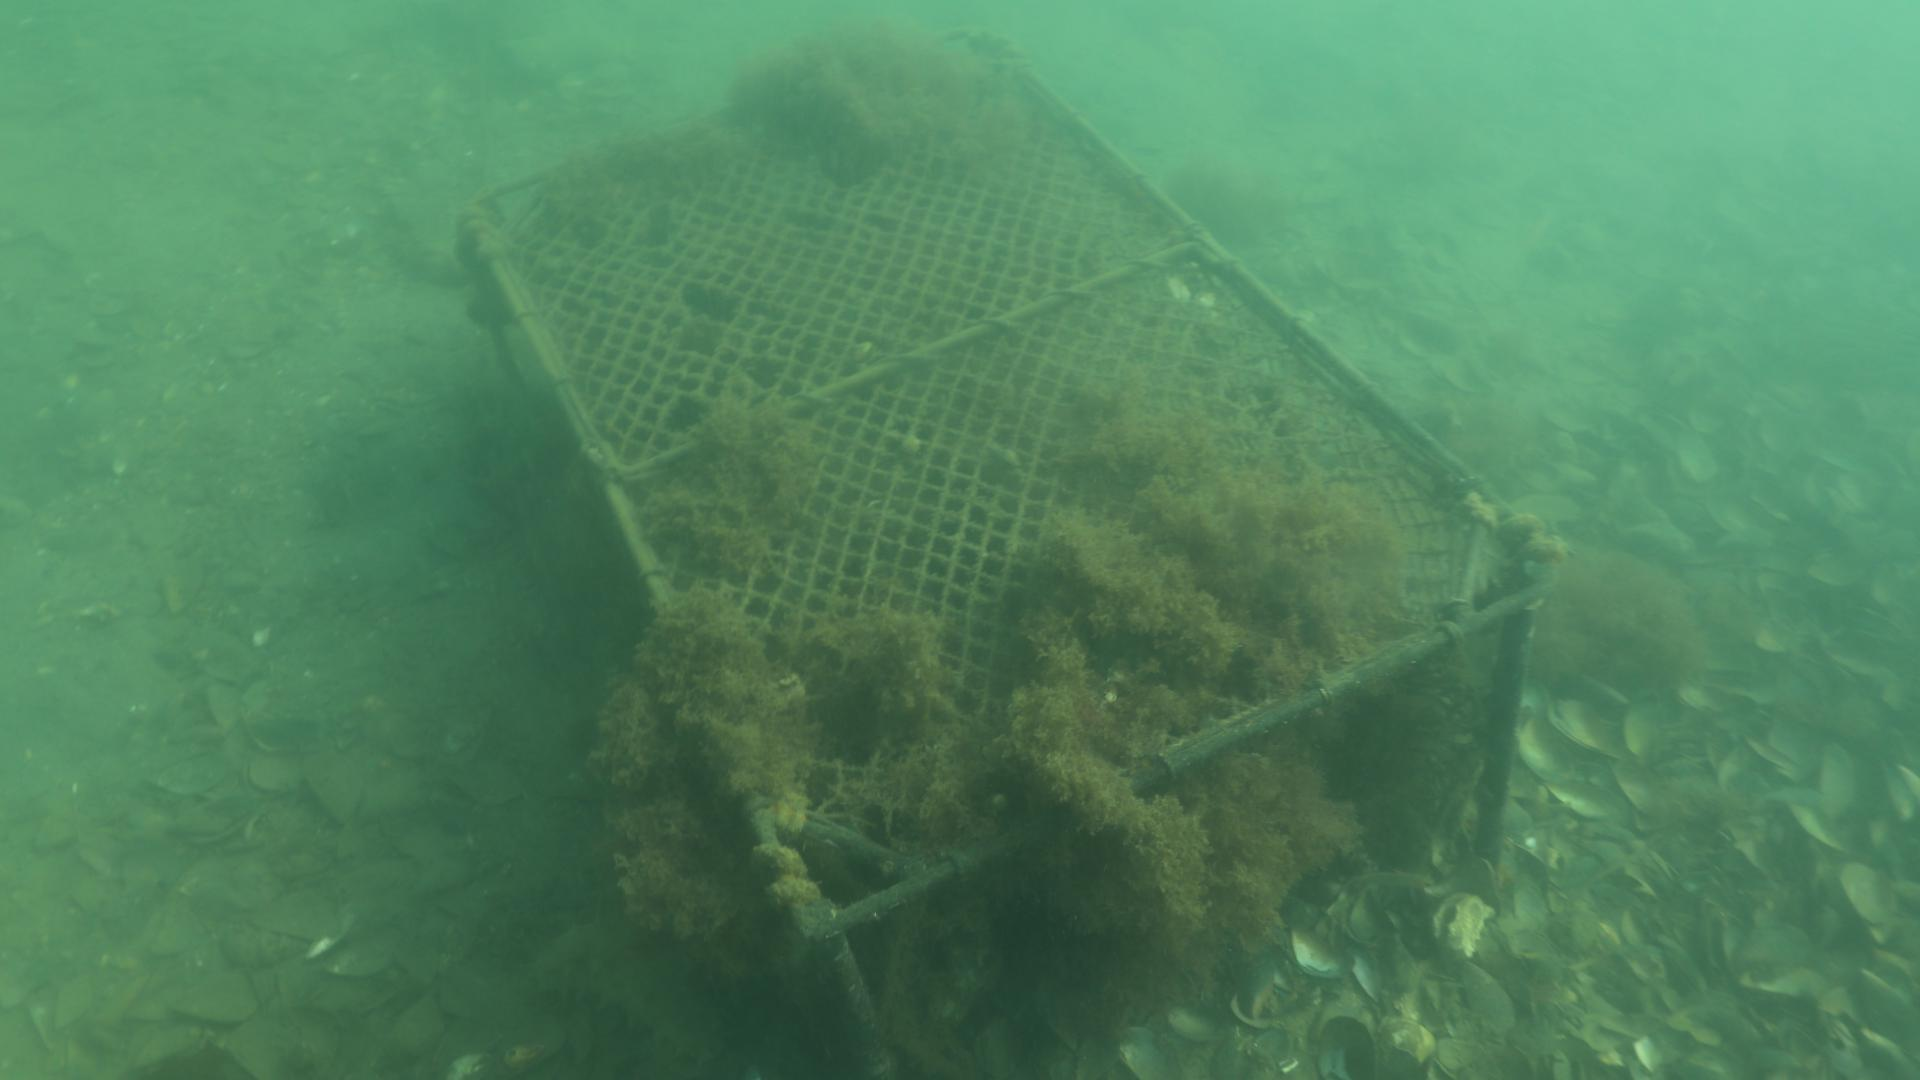rectangular fish trap: (459, 26, 1561, 1080)
